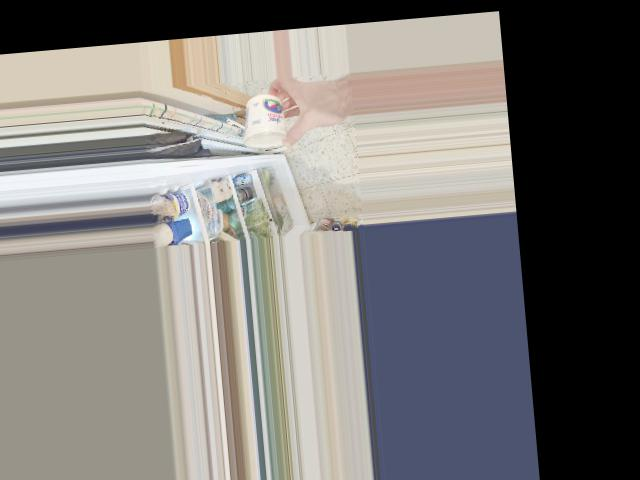cotage: (242, 92, 290, 146)
